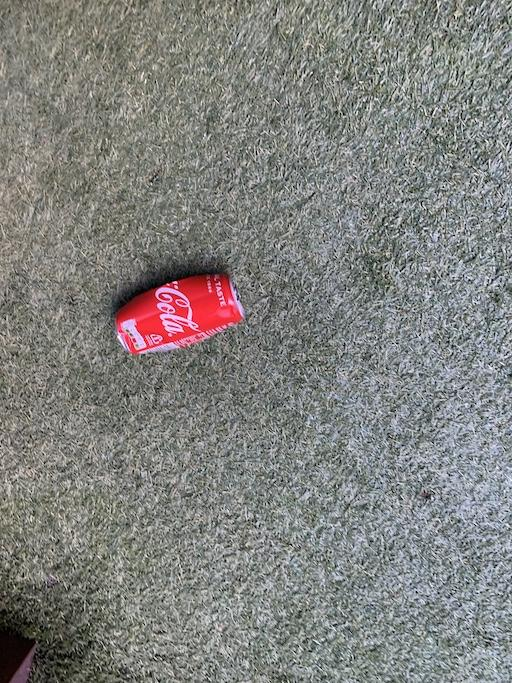Aluminum can: (114, 258, 262, 364)
